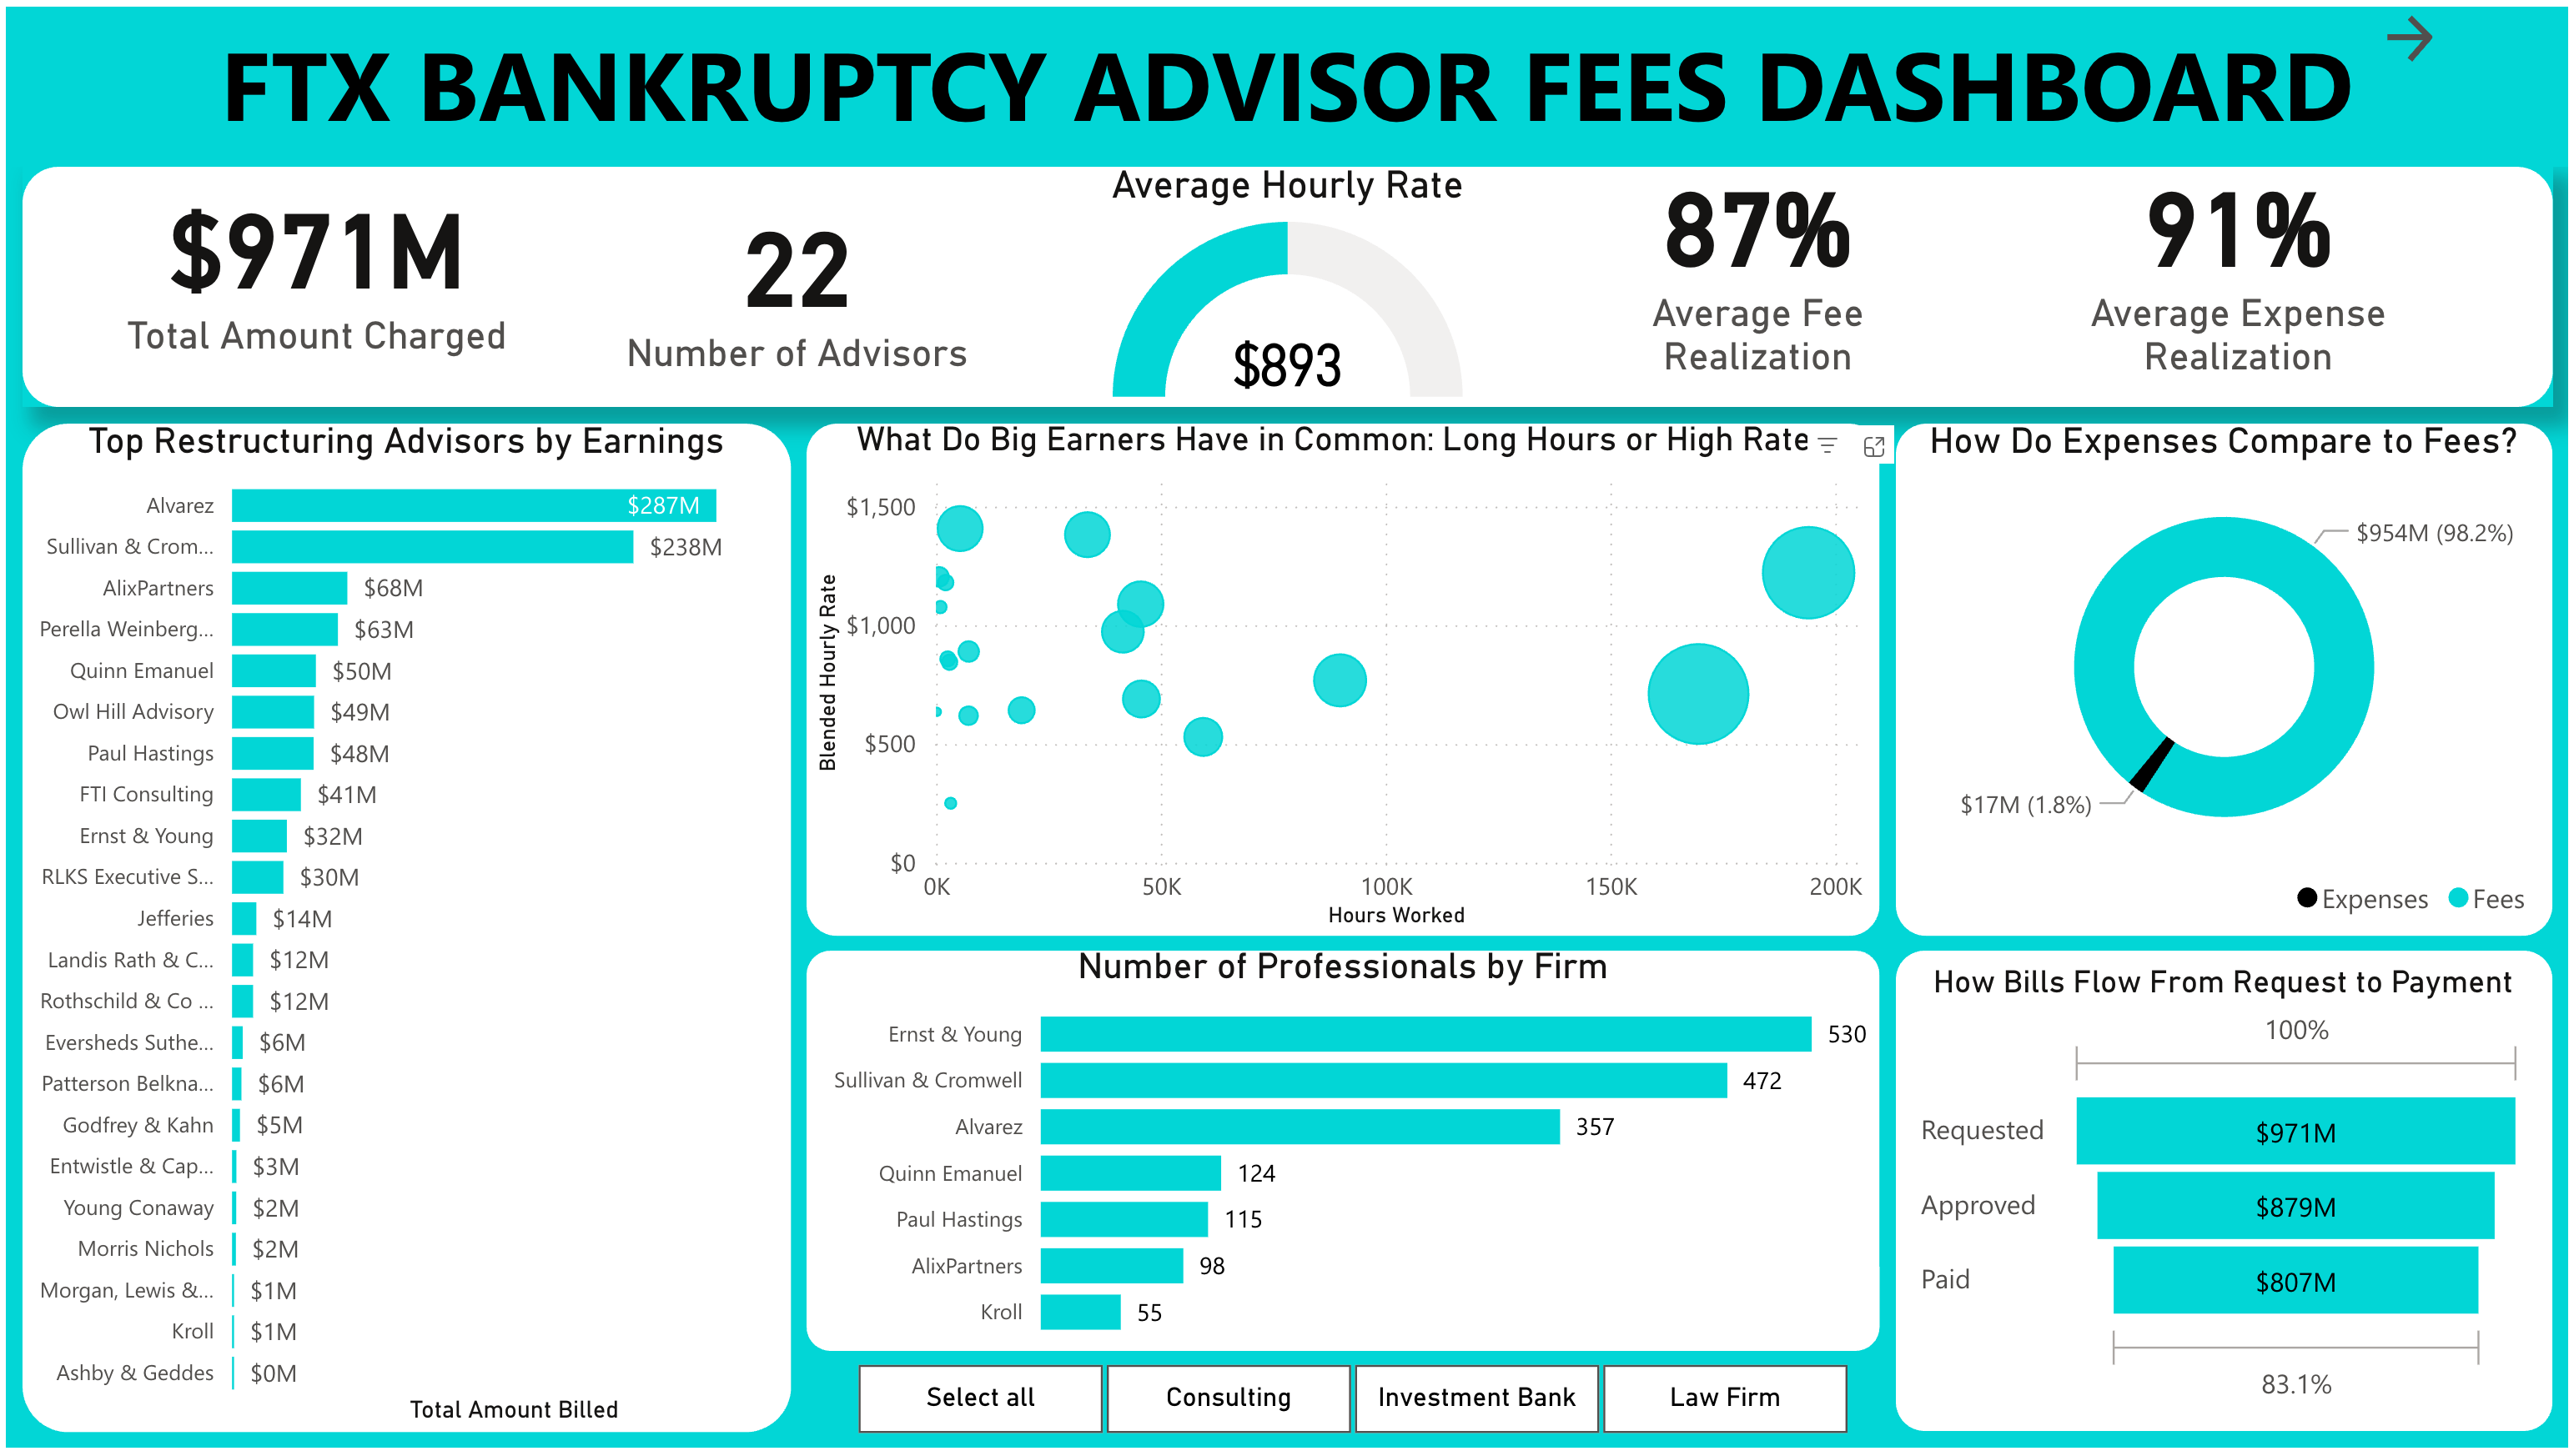

The page's visual inventory and layout, read from the dashboard file:
{"tool":"powerbi","page":{"name":"Advisor","canvas":[1280,720],"ordinal":0},"visuals":[{"type":"shape","box":[8,80,1264,120],"z":0},{"type":"cardVisual","fields":{"Data":["Count(FTX_Advisor_Data.Advisor Name)"]},"box":[283.7,86.9,224,112],"z":1000},{"type":"shape","box":[8,208,384,504],"z":2000},{"type":"cardVisual","fields":{"Data":["Sum(FTX_Advisor_Data.Total Requested)"]},"box":[43.7,86.9,224,112],"z":3000},{"type":"shape","box":[400,208,536,256],"z":4000},{"type":"shape","box":[400,472,536,200],"z":5000},{"type":"cardVisual","fields":{"Data":["Avg(coy_category.Fee Realization)"]},"box":[763.7,86.9,224,112],"z":6000},{"type":"shape","box":[944,208,328,256],"z":7000},{"type":"donutChart","title":"How do expenses compare with fees?","fields":{"Y":["Sum(FTX_Advisor_Data.Expenses Requested)","Sum(FTX_Advisor_Data.Fee Requested)"]},"box":[944,224,320,240],"z":8000},{"type":"cardVisual","fields":{"Data":["Avg(coy_category.Expense Realization)"]},"box":[1003.7,86.9,224,112],"z":9000},{"type":"shape","box":[944,472,328,240],"z":10000},{"type":"funnel","title":"How bills filter into actual payment","fields":{"Y":["Sum(FTX_Advisor_Data.Total Requested)","Sum(FTX_Advisor_Data.Total Approved)","Sum(FTX_Advisor_Data.Total Paid)"]},"box":[952,480,312,224],"z":11000},{"type":"barChart","title":"Top Earning Restructuring Advisors ","fields":{"Category":["coy_category.ADVISOR"],"Y":["Sum(coy_category.Total Amount)"]},"box":[0,208,400,504],"z":12000},{"type":"barChart","title":"Number of professionals who worked on this bankruptcy","fields":{"Category":["Main1.Advisor"],"Y":["Count(Main1.Professional)"]},"box":[400,472,536,200],"z":13000},{"type":"scatterChart","title":"What factors most influenced advisor bills?","fields":{"X":["Sum(coy_RHF.HOURS)"],"Y":["Avg(coy_RHF.BLENDED RATE)"],"Category":["coy_RHF.ADVISOR"],"Size":["Sum(FTX_Advisor_Data.Total Requested)"]},"box":[400,208,544,256],"z":14000},{"type":"textbox","box":[0,0,1280,80],"z":15000},{"type":"slicer","fields":{"Values":["coy_category.Category"]},"box":[400,672,544,48],"z":16000},{"type":"actionButton","box":[1184,0,96,32],"z":17000},{"type":"gauge","fields":{"Y":["Avg(coy_RHF.BLENDED RATE)"]},"box":[528,80,224,120],"z":18000}]}

Visuals, with their boxes in screenshot pixels (x1, y1, x2, y2), scaled from the page's 1280x720 canvas onto the 2574x1456 screenshot:
shape: bbox=[16, 162, 2558, 404]
cardVisual - Count(FTX_Advisor_Data.Advisor Name): bbox=[571, 176, 1021, 402]
shape: bbox=[16, 420, 788, 1440]
cardVisual - Sum(FTX_Advisor_Data.Total Requested): bbox=[88, 176, 538, 402]
shape: bbox=[804, 420, 1883, 938]
shape: bbox=[804, 955, 1883, 1359]
cardVisual - Avg(coy_category.Fee Realization): bbox=[1536, 176, 1986, 402]
shape: bbox=[1898, 420, 2558, 938]
"How do expenses compare with fees?" donutChart: bbox=[1898, 453, 2541, 938]
cardVisual - Avg(coy_category.Expense Realization): bbox=[2018, 176, 2469, 402]
shape: bbox=[1898, 955, 2558, 1440]
"How bills filter into actual payment" funnel: bbox=[1914, 971, 2541, 1423]
"Top Earning Restructuring Advisors " barChart: bbox=[0, 420, 804, 1440]
"Number of professionals who worked on this bankruptcy" barChart: bbox=[804, 955, 1883, 1359]
"What factors most influenced advisor bills?" scatterChart: bbox=[804, 420, 1898, 938]
textbox: bbox=[0, 0, 2573, 162]
slicer - coy_category.Category: bbox=[804, 1359, 1898, 1455]
actionButton: bbox=[2381, 0, 2573, 65]
gauge - Avg(coy_RHF.BLENDED RATE): bbox=[1062, 162, 1512, 404]
